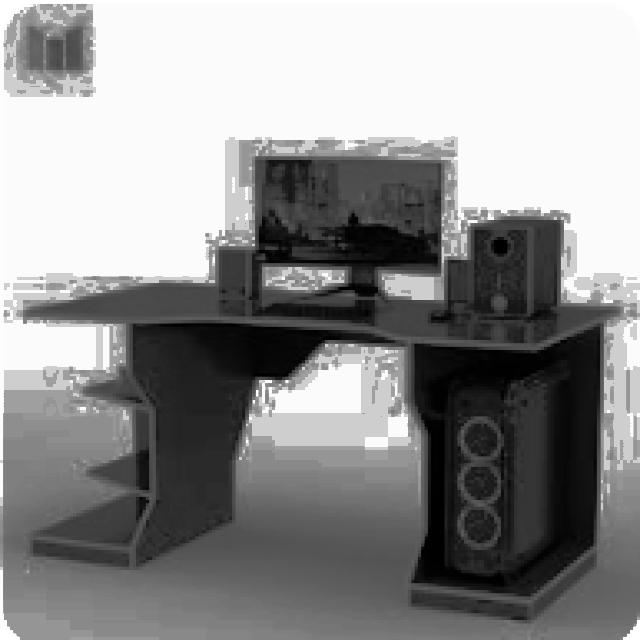table: (23, 277, 620, 620)
